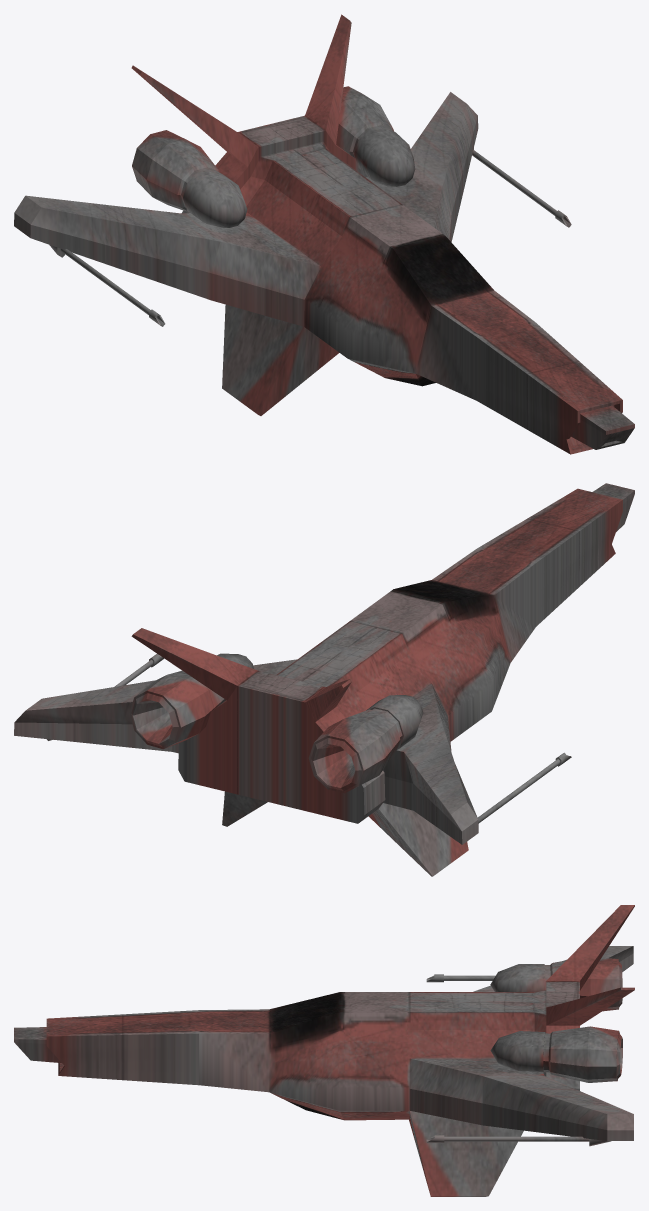
Rendered from pew pew team 2.FBX.
The picture shows the model from 3 angles, top to bottom: view 1: azimuth 30°, elevation 25°; view 2: azimuth 150°, elevation 25°; view 3: azimuth 270°, elevation 25°; orthographic projection. The views are drawn at different scales.
Visible parts, largest first — view 1: pew_pew:Cylinder002; view 2: pew_pew:Cylinder002; view 3: pew_pew:Cylinder002.
Boxes of the visible parts, bbox=[...] form: pew_pew:Cylinder002: bbox=[14, 14, 634, 454]; pew_pew:Cylinder002: bbox=[14, 483, 634, 876]; pew_pew:Cylinder002: bbox=[14, 905, 634, 1196].
Bounding box in the file's own units: 122 × 67.23 × 180.
Materials: 1 (1 with a texture image).
